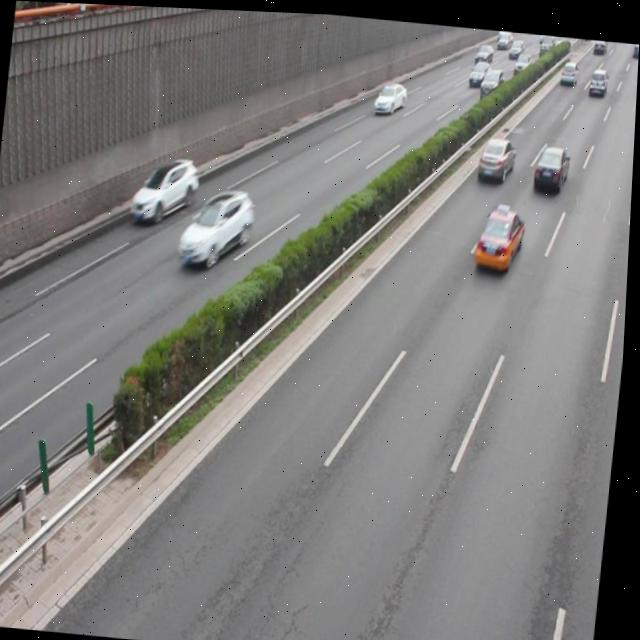car: (178, 181, 258, 269), (131, 150, 203, 224), (474, 198, 527, 269), (477, 129, 518, 178), (533, 139, 572, 190)
